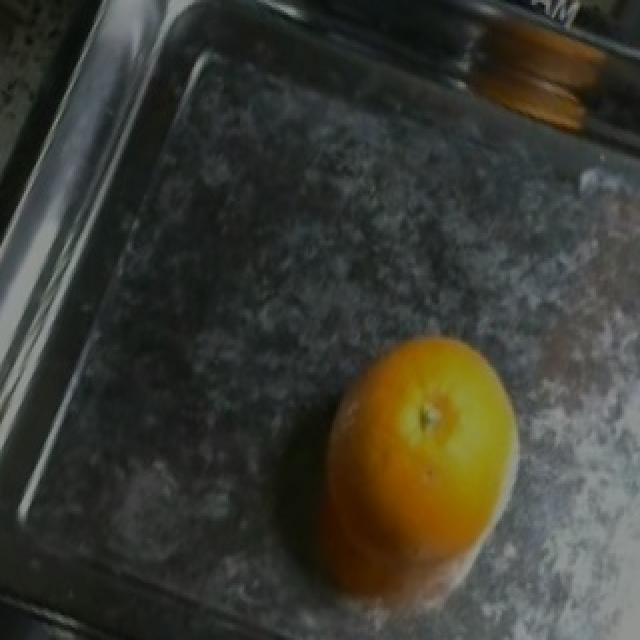Fruit: (294, 308, 540, 638)
